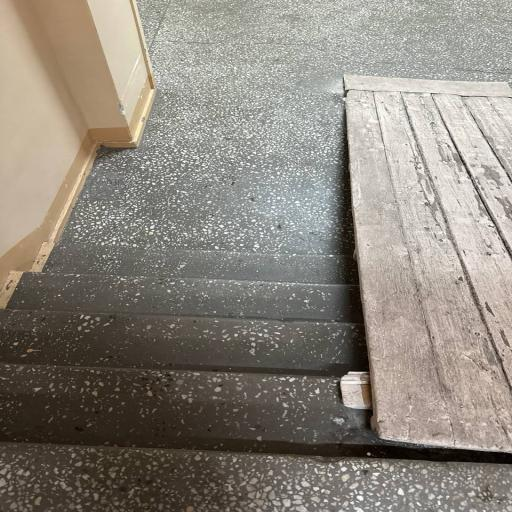elevator: (344, 75, 512, 453)
laptop: (0, 244, 388, 456)
